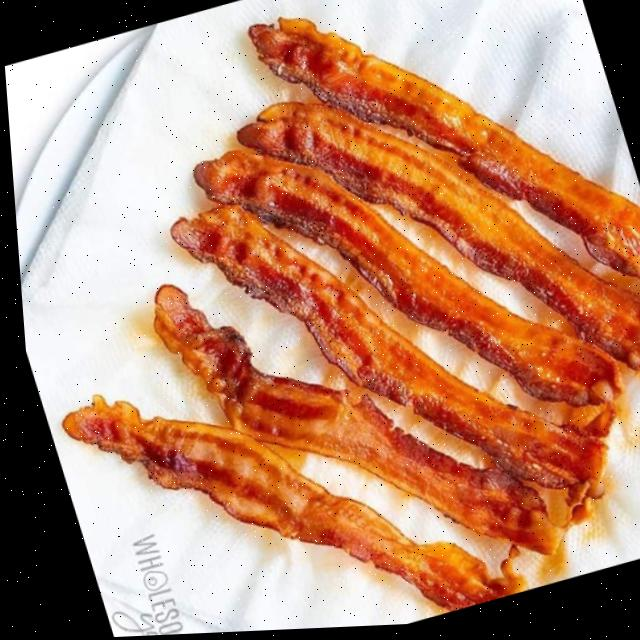Bacon: (167, 207, 598, 501), (190, 151, 613, 412), (148, 287, 554, 558), (236, 106, 640, 377), (247, 20, 640, 286)
